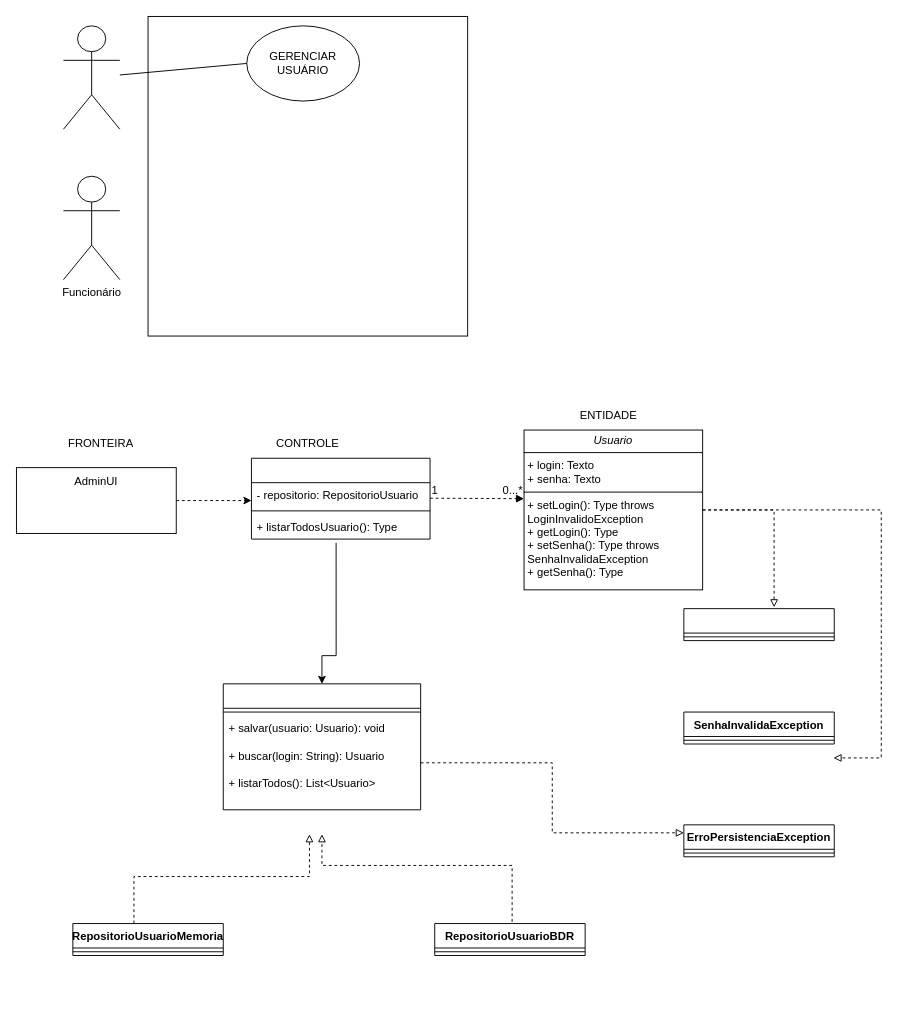
Some shapes in this 905 by 1021 pixel diagram are drawn without their labels. The shapes that lost their labels are listed below. From the top down, each one's box as (x1, y1, x2, y2) in pixels, then its label:
(63, 25, 120, 129): Gerente
(251, 457, 430, 539): GerenciamentodeUsuario
(683, 608, 834, 641): LoginInvalidoException
(222, 683, 421, 810): <<interface>> RepositorioUsuario
